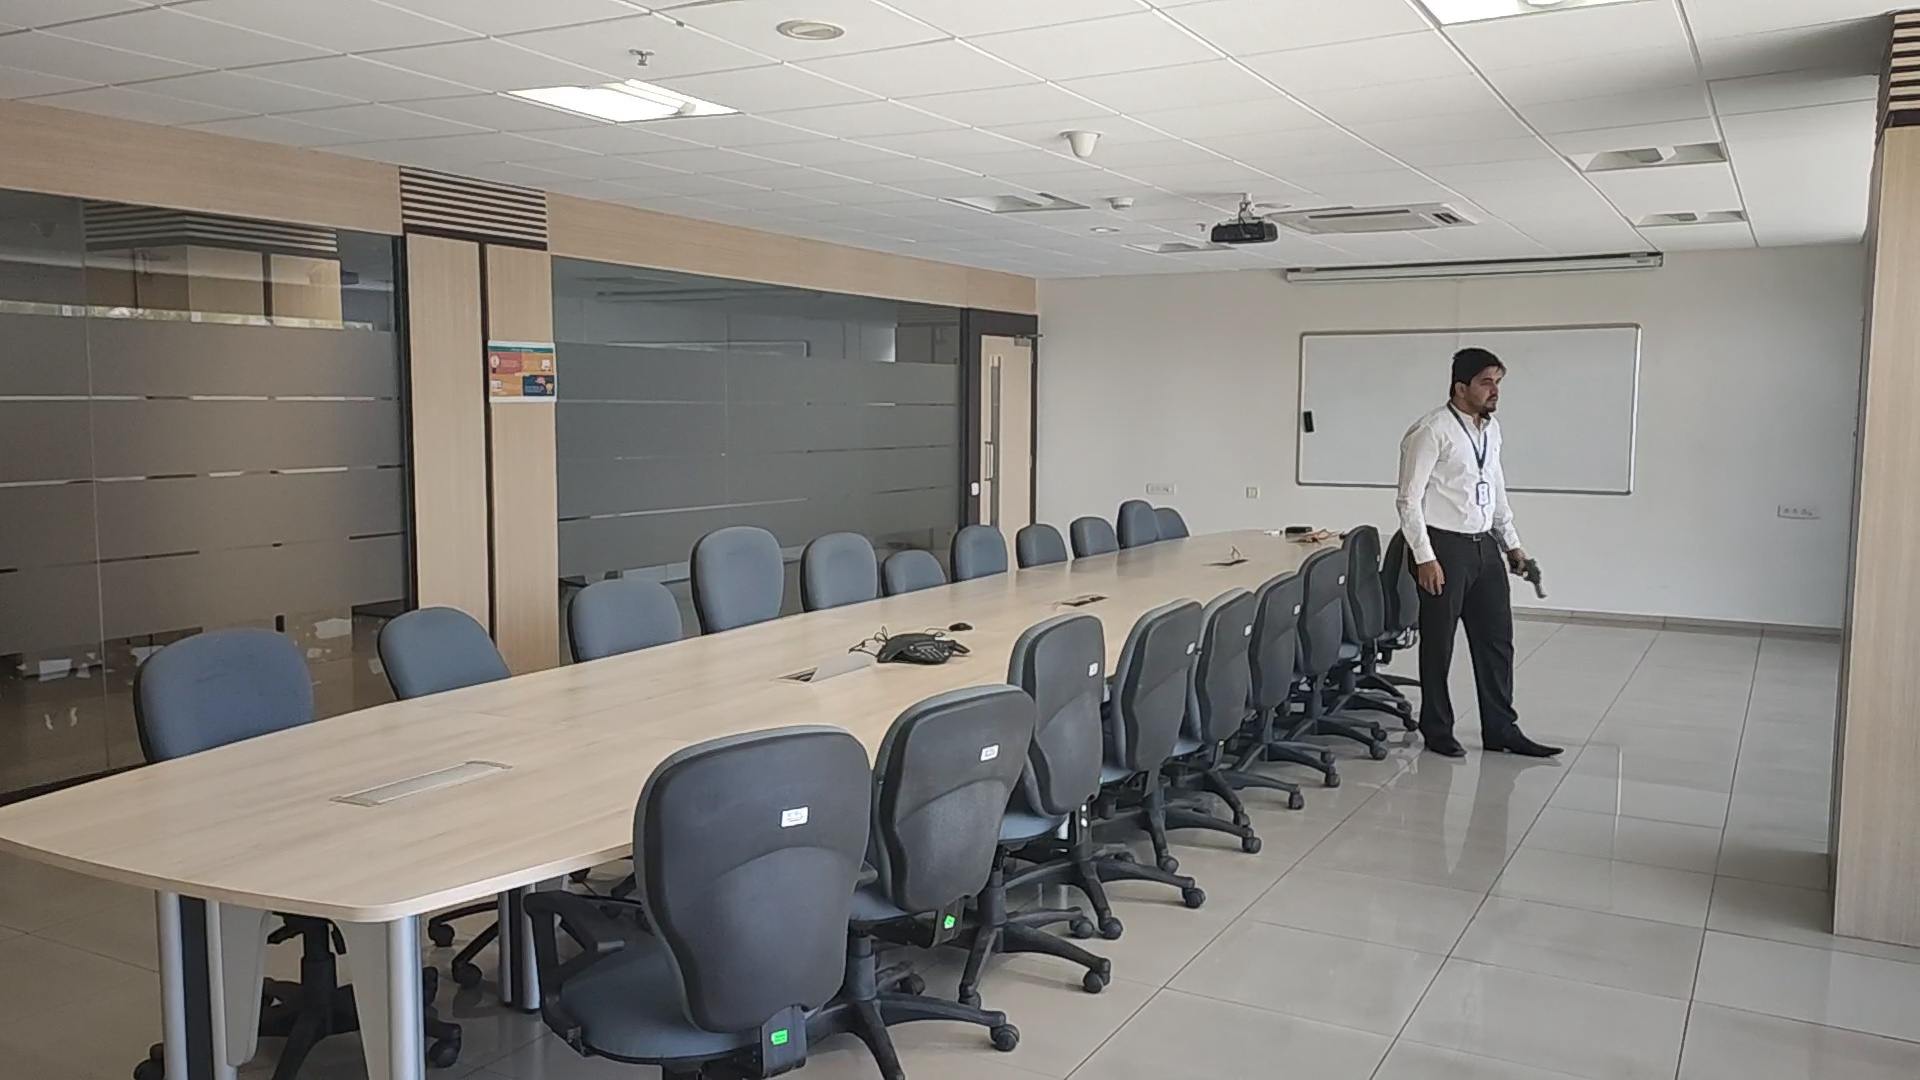knife: (1526, 559, 1547, 601)
